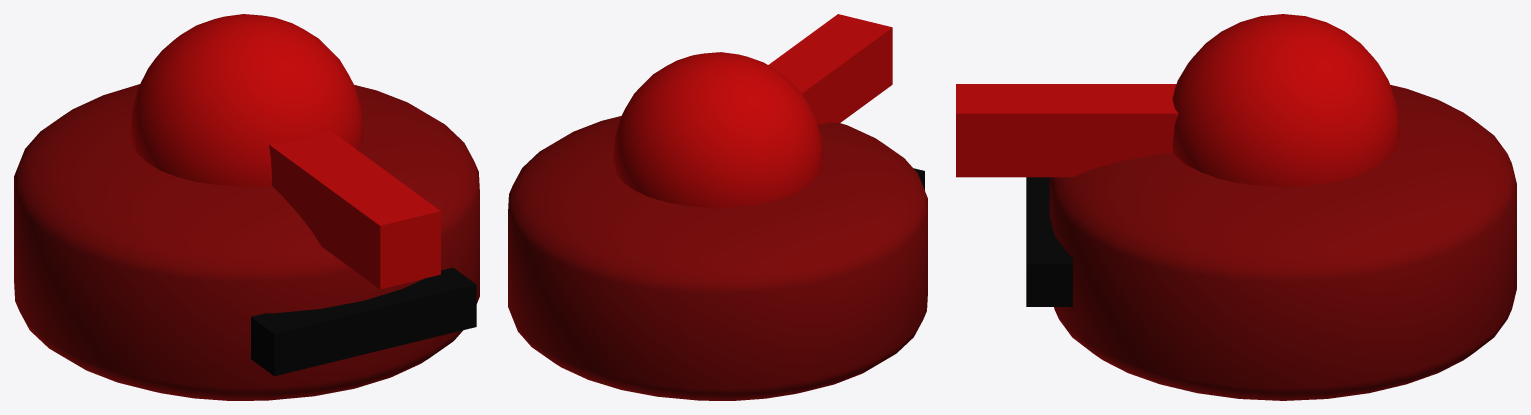
The model's file is Tank Original.fbx.
3 views of the same model, side by side, from view 1: azimuth 30°, elevation 25°; view 2: azimuth 150°, elevation 25°; view 3: azimuth 270°, elevation 25° (orthographic). The views are drawn at different scales.
Visible parts, largest first — view 1: Shell, Base, Barrel, Front; view 2: Shell, Base, Barrel; view 3: Shell, Base, Barrel, Front.
Part boxes in pixels (x1,y1,x2,y2): Shell: (14,84,479,400); Base: (130,14,363,186); Barrel: (269,130,440,289); Front: (251,267,476,376); Shell: (508,116,927,400); Base: (613,52,822,207); Barrel: (768,14,892,124); Shell: (1049,85,1516,400); Base: (1172,14,1399,186); Barrel: (956,84,1178,177); Front: (1026,177,1072,306).
Size of the model in its own units: 100 by 75 by 120.
